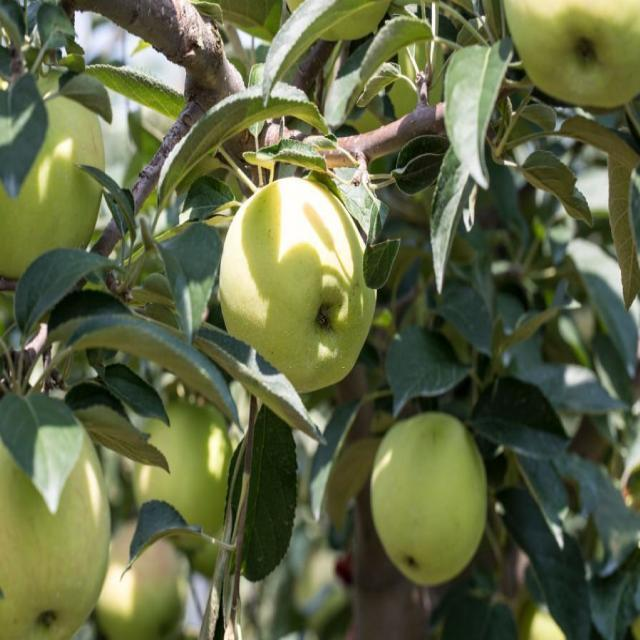Green Apple: (225, 173, 376, 376), (1, 425, 111, 640), (1, 66, 109, 281), (377, 410, 487, 593), (142, 393, 233, 546), (505, 1, 640, 100), (112, 517, 205, 640), (279, 1, 394, 35), (532, 605, 599, 640)
